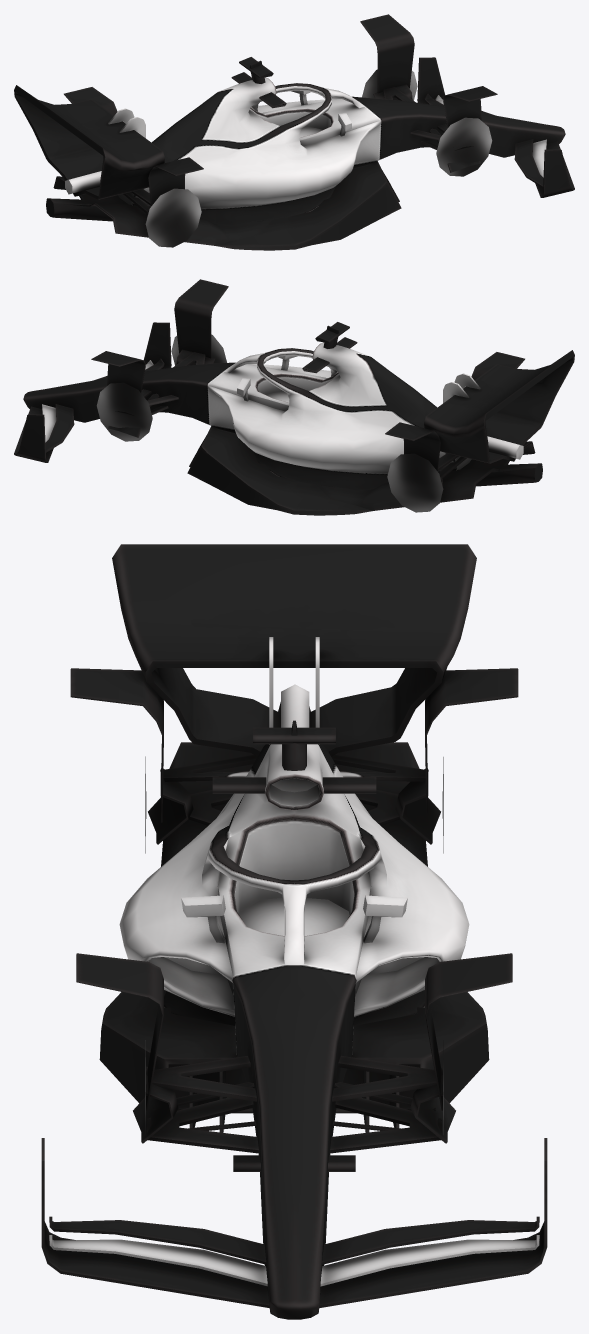
File: f1_car_12.dae
3 views of the same model, one above another, from view 1: azimuth 30°, elevation 25°; view 2: azimuth 150°, elevation 25°; view 3: azimuth 270°, elevation 25° (orthographic). The views are drawn at different scales.
Visible parts, largest first — view 1: F1_Car; view 2: F1_Car; view 3: F1_Car.
Boxes of the visible parts, x1=… form: F1_Car: x1=14, y1=14, x2=574, y2=250; F1_Car: x1=14, y1=279, x2=574, y2=515; F1_Car: x1=41, y1=544, x2=547, y2=1319.
Bounding box in the file's own units: 34.44 × 14.7 × 9.69.
1 material, 1 textured.
